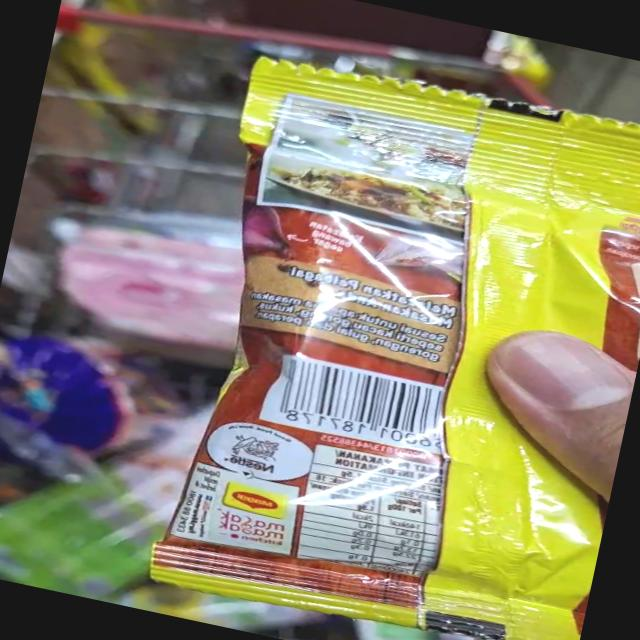Maggi Cukup Rasa: (141, 43, 640, 640)
